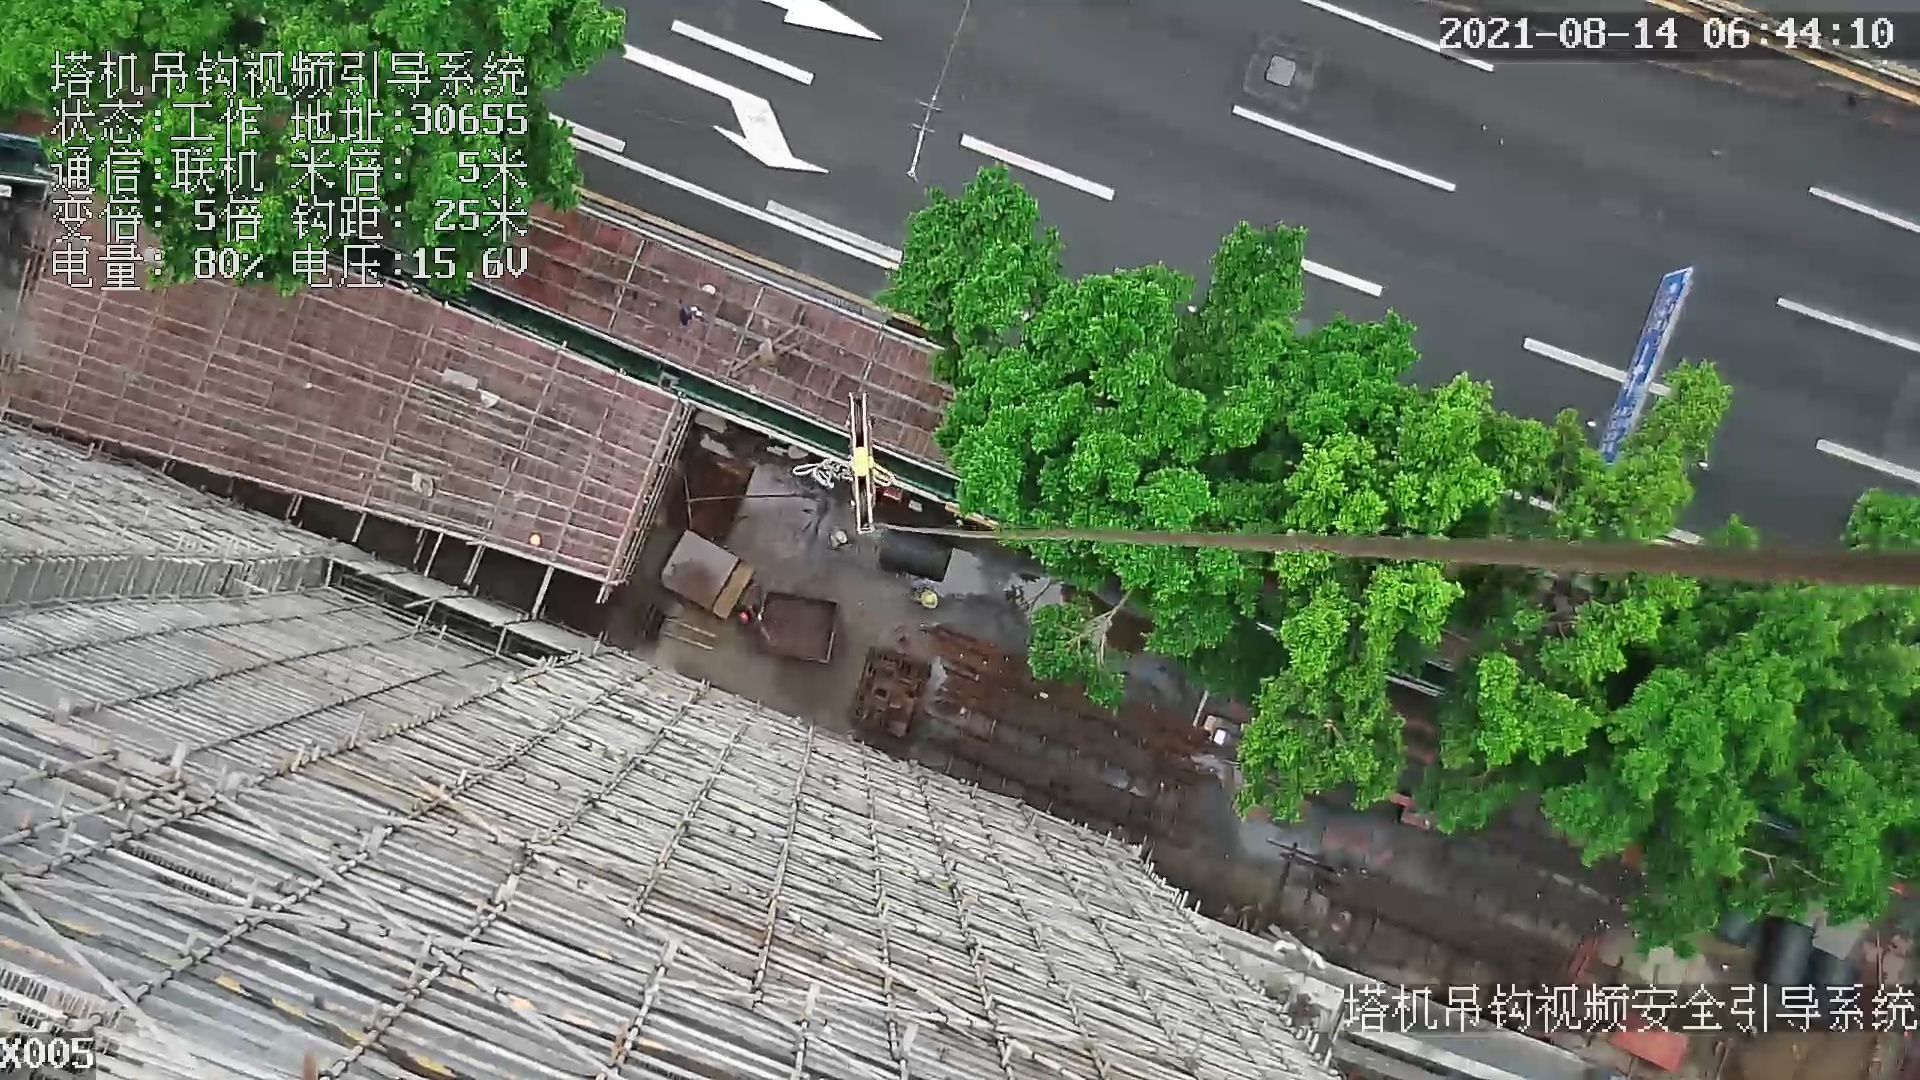person: (910, 581, 945, 609), (735, 599, 755, 623), (824, 528, 845, 550)
